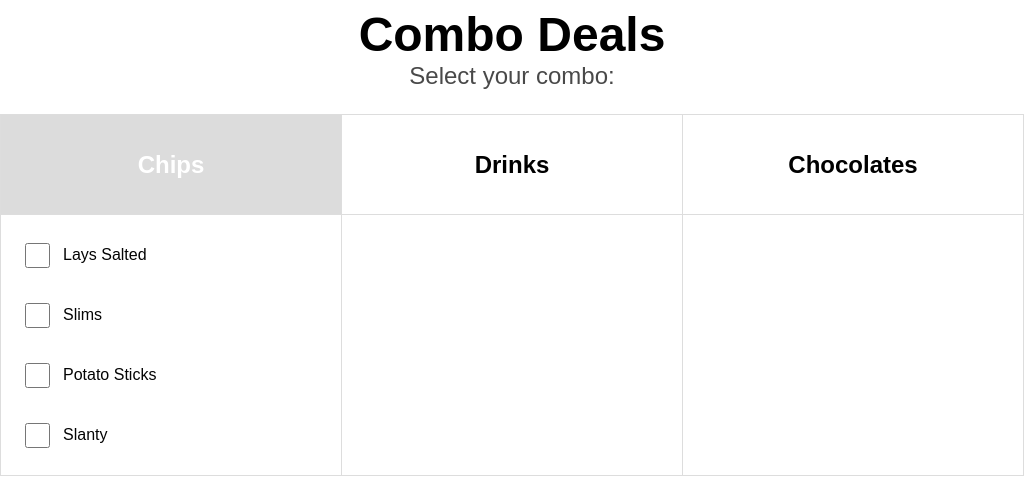
ComboPicker › handles tab selection
expect the text "Lays Salted" is shown: met, box [21,240,147,271]
Click the column heading "Drinks" at (512, 165), box [342,115,682,215]
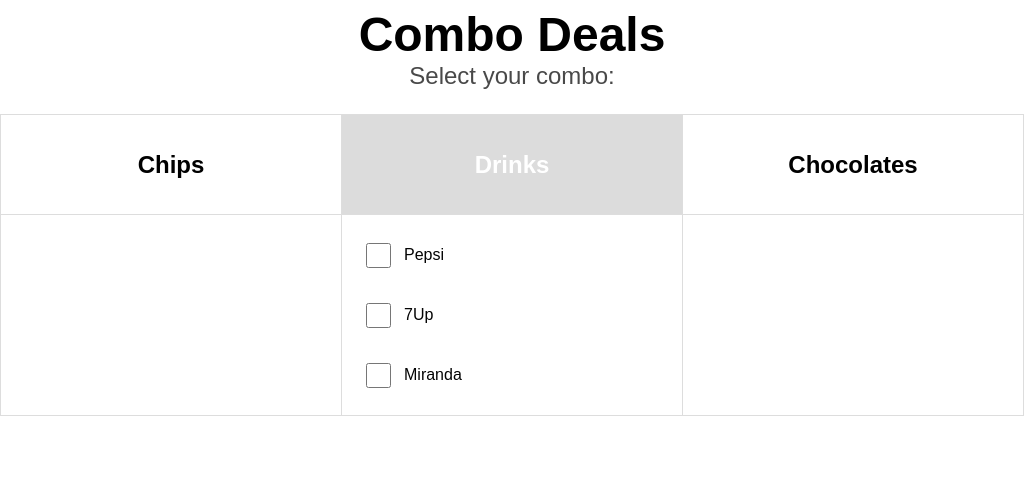
expect the text "Pepsi" is shown: met, box [362,240,444,271]
expect the text "7Up" is shown: met, box [362,300,433,331]
expect the text "Miranda" is shown: met, box [362,360,462,391]
